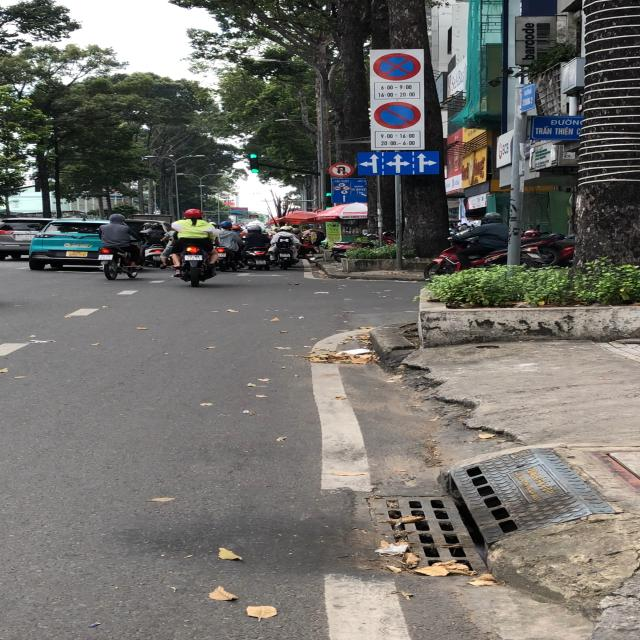Bien bao cam do xe: (372, 99, 426, 130)
Bien bao cam dung xe va do xe: (373, 50, 428, 84)
Bien bao cam quay dau xe: (327, 162, 353, 178)
